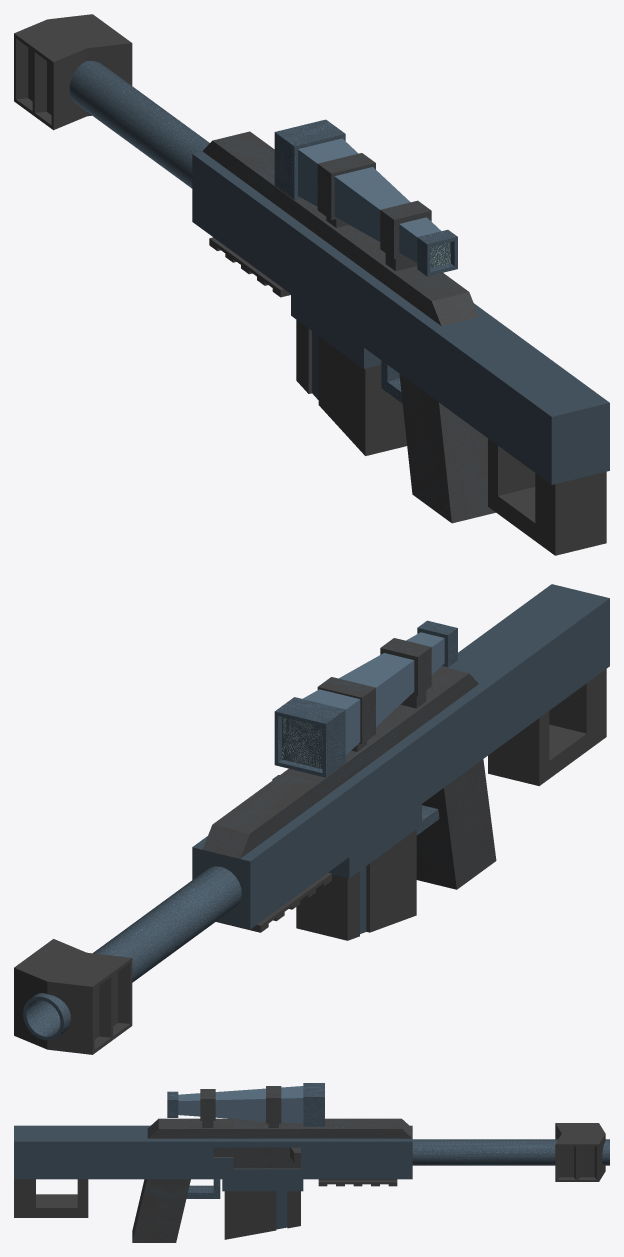
Rendered from sniper.obj.
3 renders of one model, top to bottom at view 1: azimuth 30°, elevation 25°; view 2: azimuth 150°, elevation 25°; view 3: azimuth 270°, elevation 25°, orthographic. The views are drawn at different scales.
Visible parts, largest first — view 1: Group; view 2: Group; view 3: Group.
Boxes of the visible parts, x1,y1,x2,y2 form: Group: [14, 14, 609, 555]; Group: [14, 584, 609, 1054]; Group: [14, 1083, 609, 1242].
Bounding box in the file's own units: 0.0995 × 0.2833 × 1.04.
